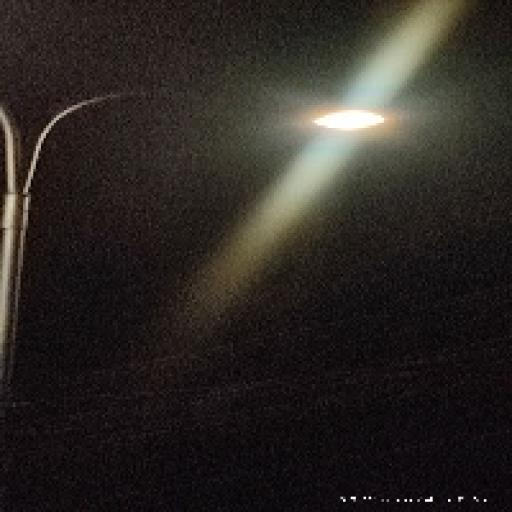Working: (285, 102, 404, 144)
